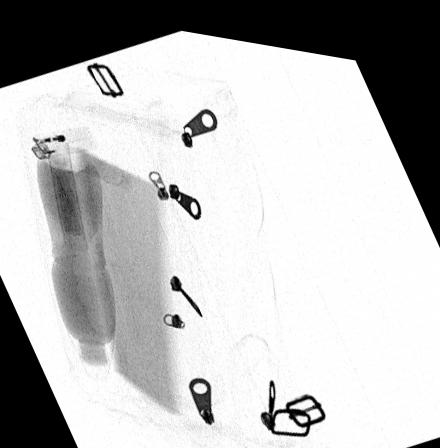Lighter: (30, 122, 99, 158)
